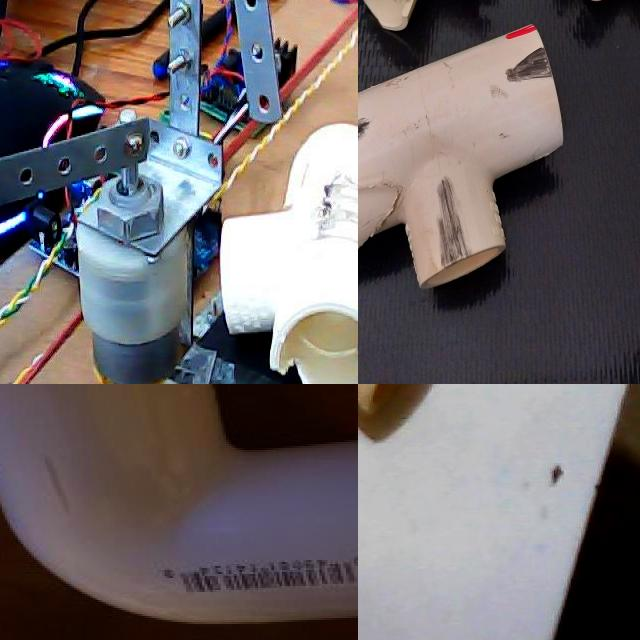Defective: (271, 306, 358, 384), (320, 152, 358, 267), (358, 2, 409, 55), (591, 306, 620, 378), (479, 102, 502, 161), (391, 350, 419, 384), (424, 358, 456, 381), (510, 103, 522, 137), (518, 372, 548, 384)
L Joint: (515, 0, 638, 84), (388, 322, 553, 384)
T Joint: (220, 124, 358, 384), (358, 0, 518, 193), (538, 146, 640, 381)
